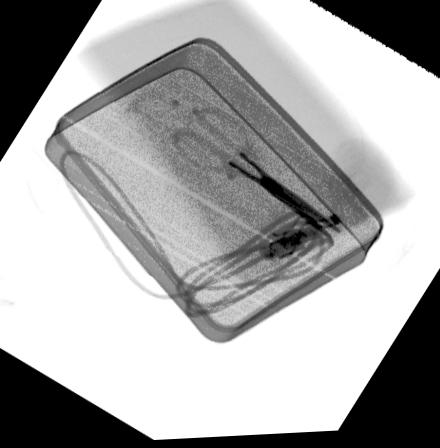Scissors: (169, 109, 343, 243)
